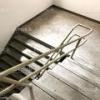stairs: (8, 31, 62, 78)
